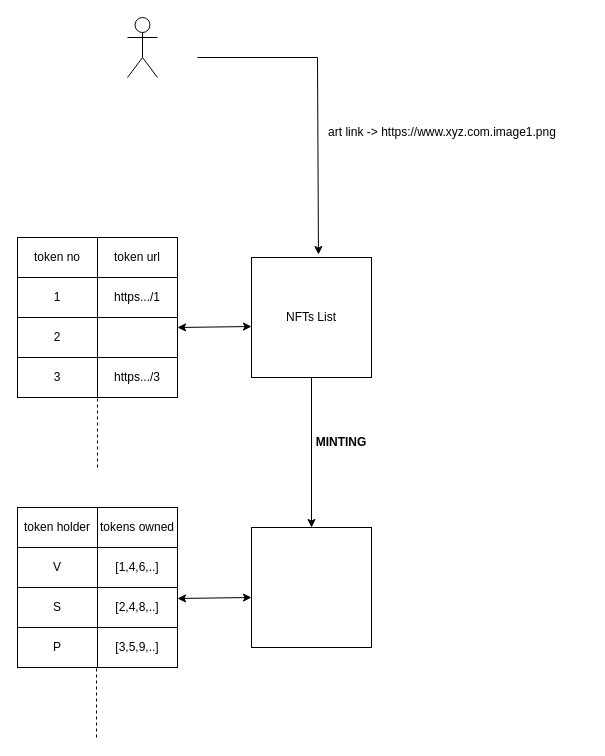
Image size: 605x756. Some labels were removed from this diagram. Each missing label, with the box of its shape:
Artist: (126, 16, 158, 78)
https.../2: (96, 316, 178, 358)
tokensOwnedList: (250, 526, 372, 648)
